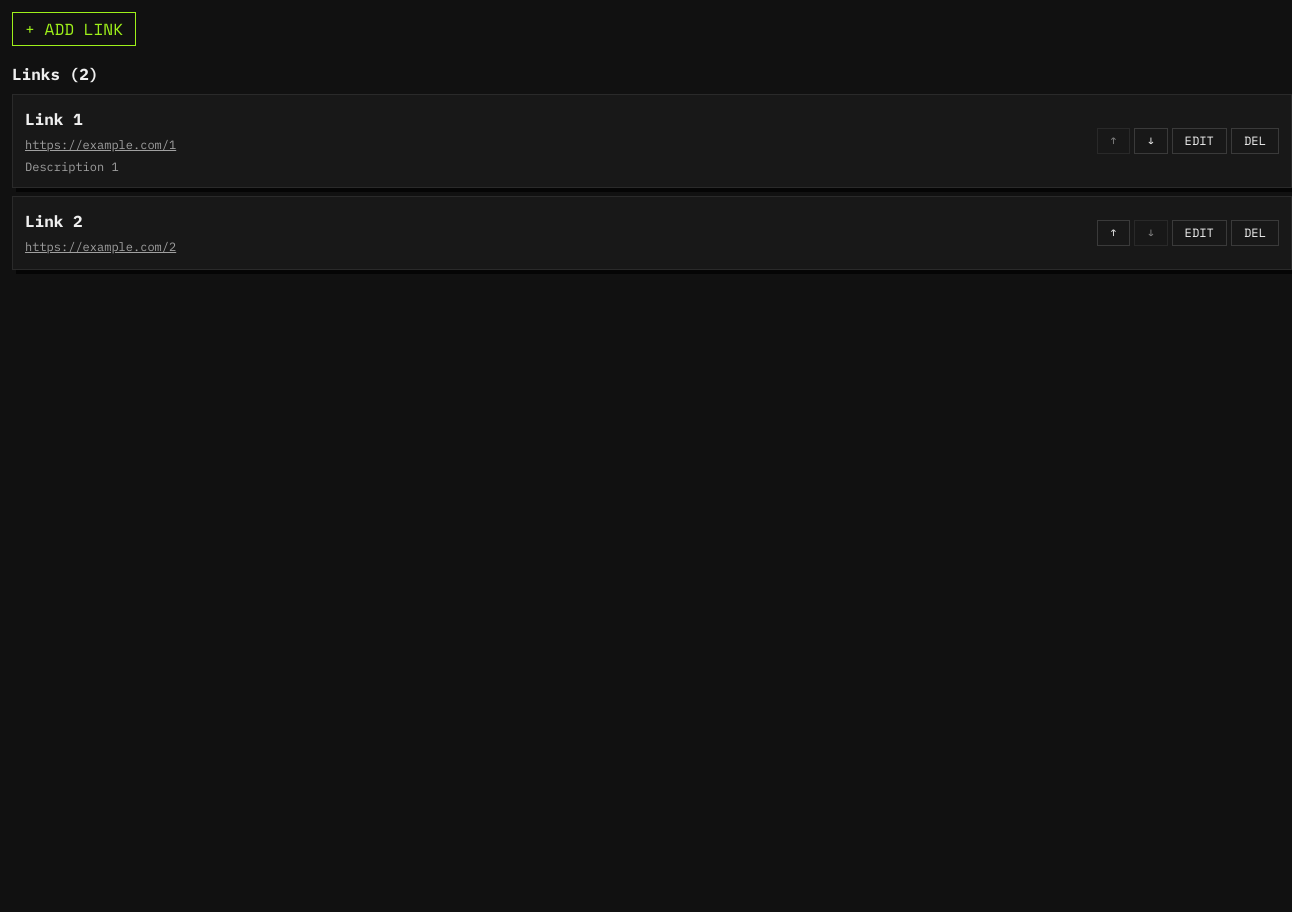
Scenario: LinkManager › opens edit form when edit button clicked
Expected: the text "Link 1" is shown, [25,109,83,129]
Click the button "EDIT" in the row of "https://example.com/1" at (1199, 141), box [1172,128,1227,154]
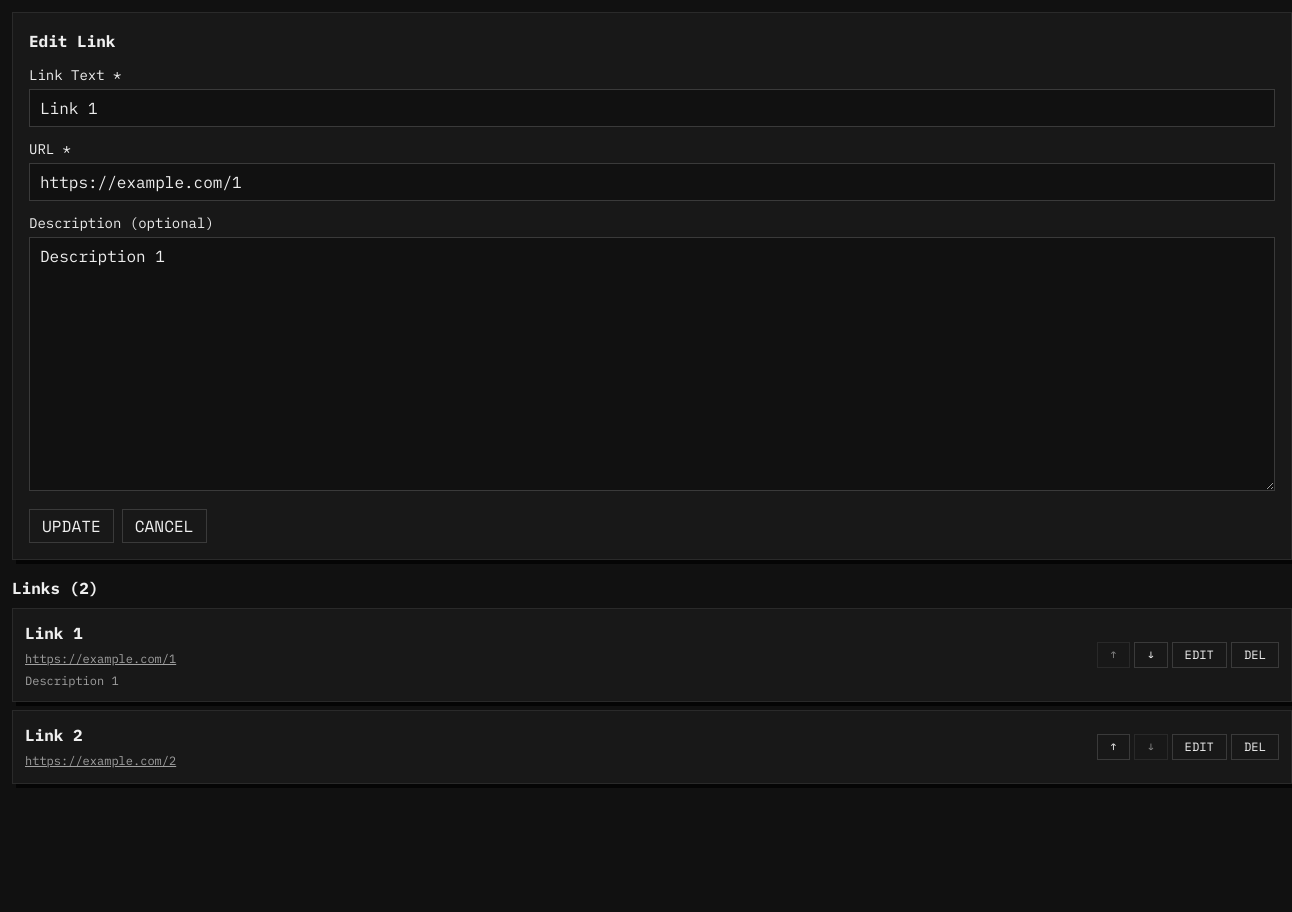
Expected: the heading "Edit Link" is shown, [29,31,115,51]
Expected: the field showing "Link 1" is shown, [29,89,1275,127]
Expected: the field showing "https://example.com/1" is shown, [29,163,1275,201]
